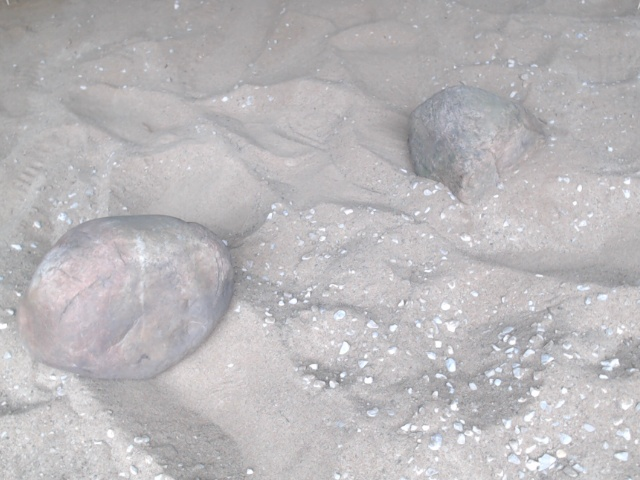rock: (12, 208, 240, 387), (402, 81, 552, 210)
